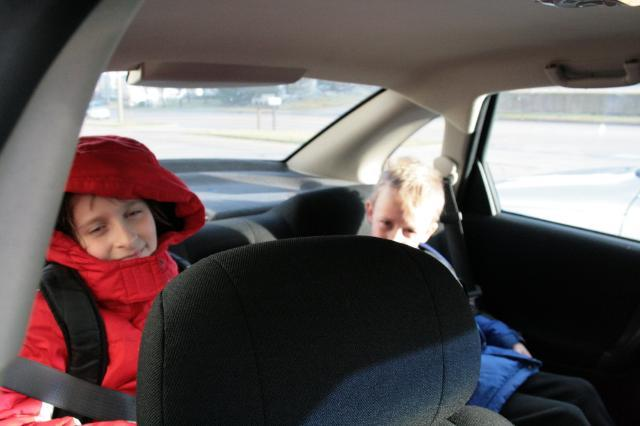SafeDriving: (82, 217, 113, 238)
Seatbelt: (0, 356, 134, 418)
